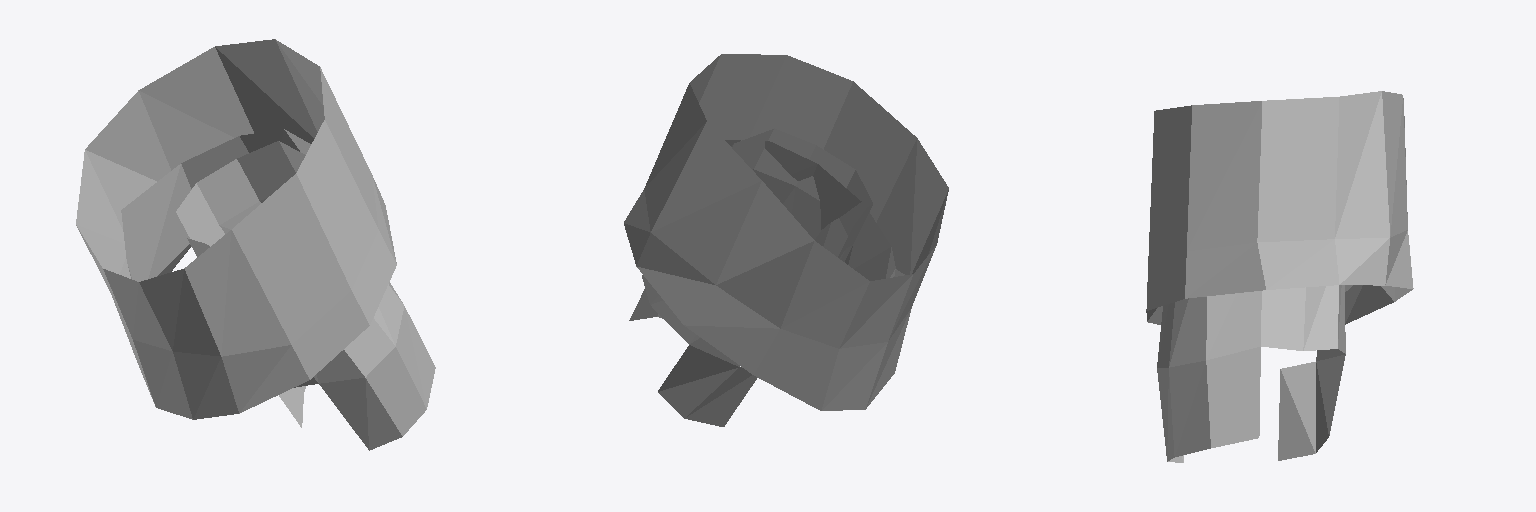
File: rightshoulder.obj
3 renders of one model, left to right at view 1: azimuth 30°, elevation 25°; view 2: azimuth 150°, elevation 25°; view 3: azimuth 270°, elevation 25°, orthographic.
Visible parts, largest first — view 1: Patrick.001; view 2: Patrick.001; view 3: Patrick.001.
Boxes of the visible parts, x1,y1,x2,y2 form: Patrick.001: [76, 39, 435, 450]; Patrick.001: [624, 54, 948, 426]; Patrick.001: [1146, 91, 1413, 462].
Bounding box in the file's own units: 0.1686 × 0.1975 × 0.1305.